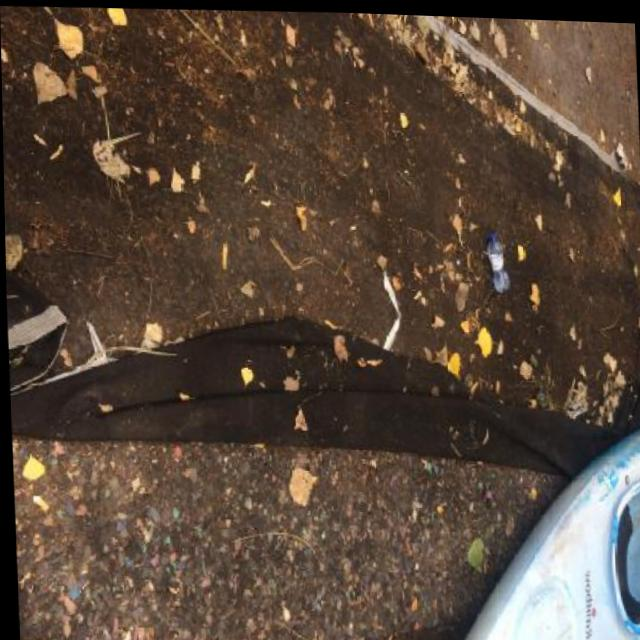plastic: (486, 231, 510, 294)
